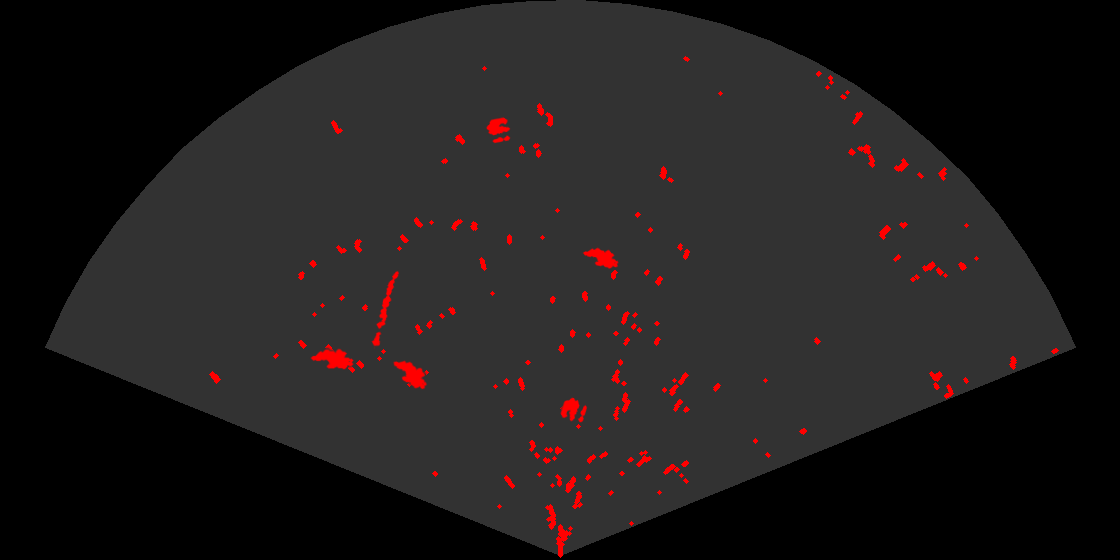AUV: (391, 359, 429, 391), (309, 347, 355, 371), (581, 246, 620, 270)
ball: (559, 396, 589, 424), (485, 116, 512, 145)
chain: (370, 269, 401, 349)
